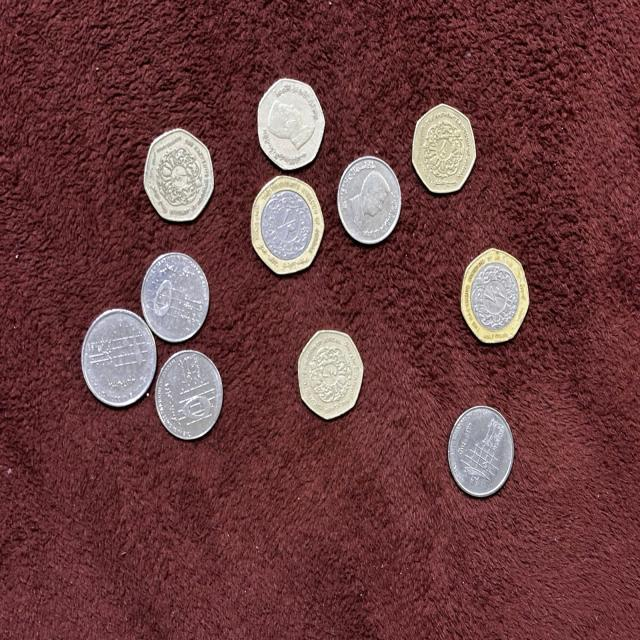10-coins: (81, 309, 157, 407), (446, 406, 516, 496)
25-coins: (141, 126, 218, 224), (255, 78, 328, 174), (410, 100, 478, 195), (296, 329, 365, 420)
5-coins: (140, 251, 210, 346), (154, 349, 225, 442), (337, 154, 404, 245)
50-coins: (249, 174, 327, 278), (460, 243, 531, 347)
